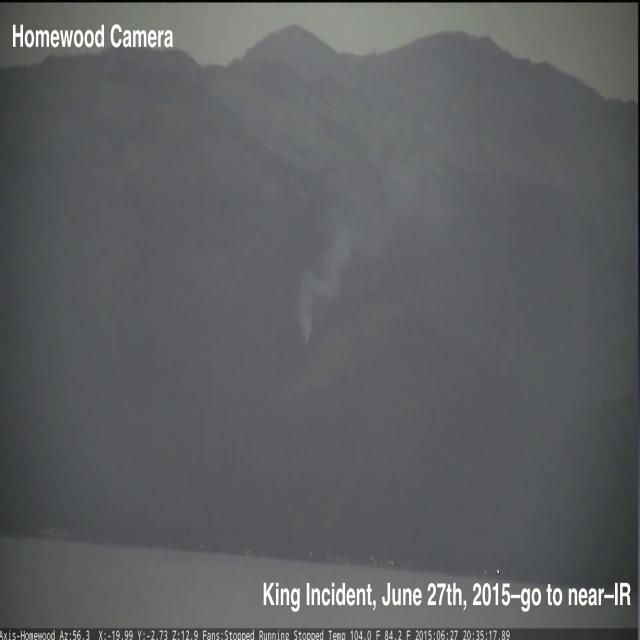smoke: (292, 183, 364, 352)
